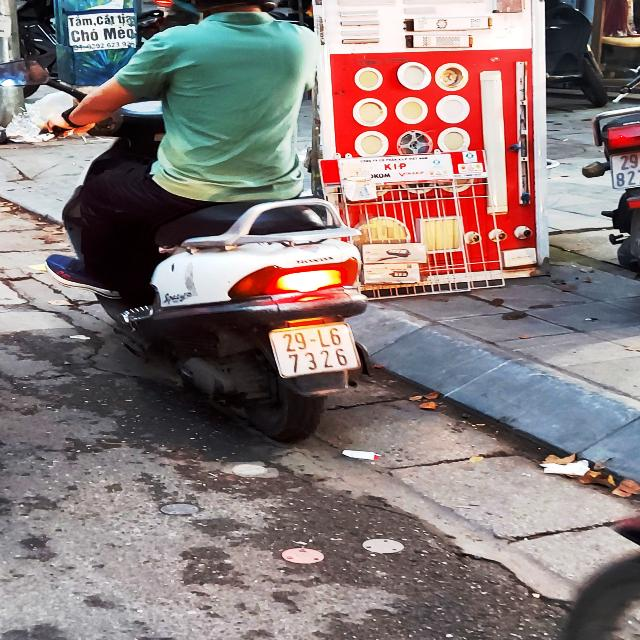license_plate: (264, 318, 370, 383)
